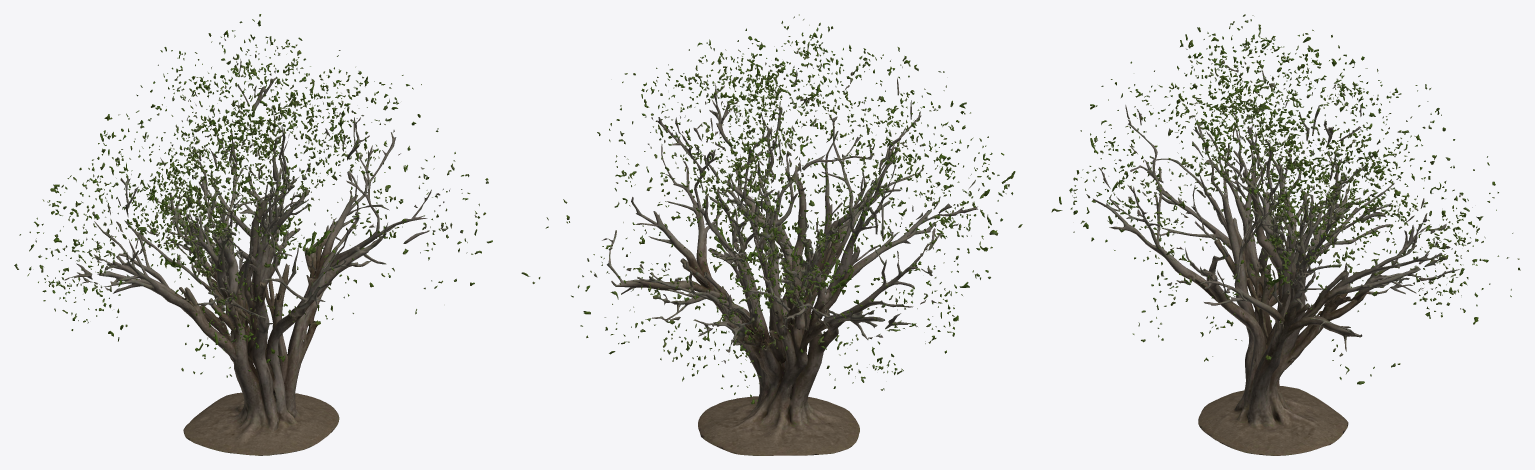
The model's file is tree_oliv.glb.
3 renders of one model, left to right at view 1: azimuth 30°, elevation 25°; view 2: azimuth 150°, elevation 25°; view 3: azimuth 270°, elevation 25°, orthographic. The views are drawn at different scales.
Visible parts, largest first — view 1: world; view 2: world; view 3: world.
Part boxes in pixels (x1,y1,x2,y2): world: [14, 14, 492, 455]; world: [521, 14, 1022, 455]; world: [1051, 14, 1520, 455].
Bounding box in the file's own units: 0.95 × 0.8757 × 0.9722.
1 material, 1 textured.
